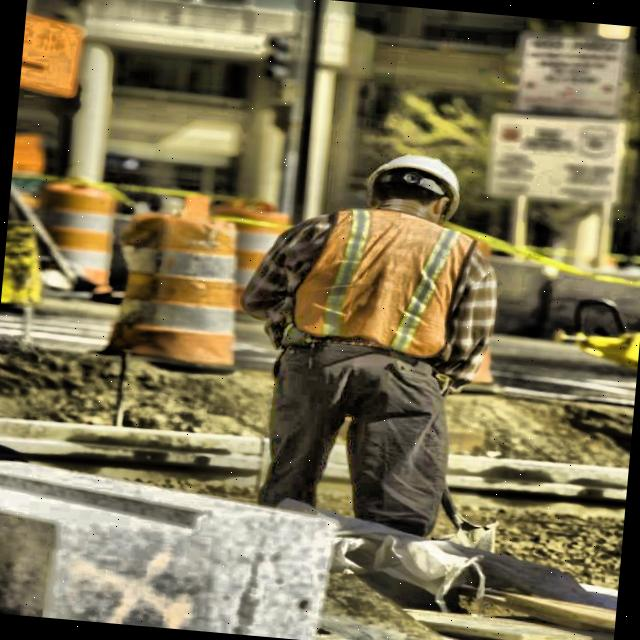helmet: (363, 147, 464, 235)
